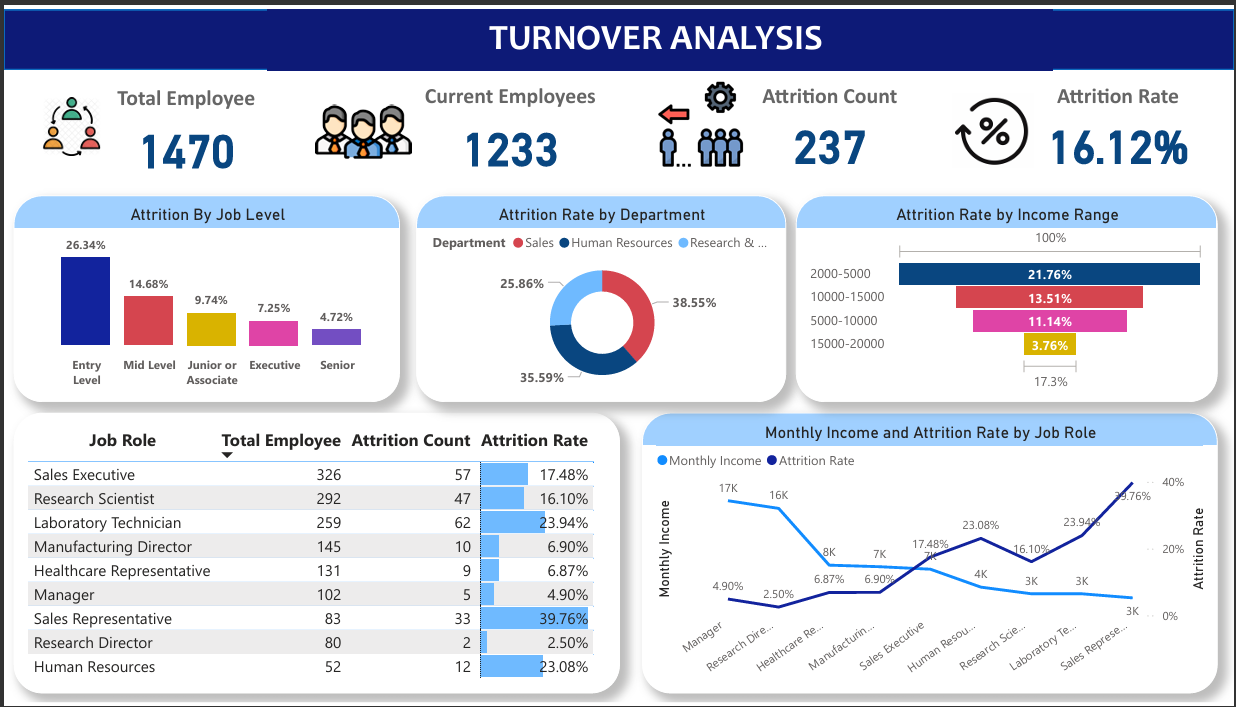

This screenshot's page, from the dashboard's own definition file:
{"tool":"powerbi","page":{"name":"page 1","canvas":[1280,720],"ordinal":0},"visuals":[{"type":"shape","box":[0,0,1279.9,62.3],"z":0},{"type":"columnChart","title":"Attrition By Job Level ","fields":{"Y":["Table.Attrition"],"Category":["HR-Employee-Attrition.JobLevel"],"Series":["HR-Employee-Attrition.JobLevel"]},"box":[19.8,205.8,368.6,170.9],"z":1000},{"type":"textbox","box":[273.8,0,816.6,63.6],"z":2000},{"type":"card","title":"Attrition Count","fields":{"Values":["Table.Attrition"]},"box":[760.3,81.9,190.7,96.6],"z":3000},{"type":"card","title":"Current Employees","fields":{"Values":["Table.currently in company"]},"box":[412,85.6,229.8,101.5],"z":4000},{"type":"card","title":"Attrition Rate","fields":{"Values":["Table.attrition rate"]},"box":[1056.2,81.9,206.6,96.6],"z":5000},{"type":"image","box":[981.6,70.9,94.1,122.2],"z":6000},{"type":"image","box":[663.8,74.6,139.4,103.9],"z":7000},{"type":"image","box":[319,35.4,110,201.7],"z":8000},{"type":"image","box":[35.4,67.2,70.9,129.6],"z":9000},{"type":"barChart","title":"Attrition By Job Satisfaction","fields":{"Category":["HR-Employee-Attrition.JobSatisfaction"],"Y":["Table.Attrition"],"Series":["HR-Employee-Attrition.JobSatisfaction"]},"box":[516.3,393,267.4,326.7],"z":10000},{"type":"tableEx","fields":{"Values":["HR-Employee-Attrition.JobRole","Table.Attrition","Table.attrition rate"]},"box":[19.8,393,474.4,316.3],"z":11000},{"type":"card","title":"Total Employee","fields":{"Values":["Table.total employee"]},"box":[106.3,85.6,167.5,101.5],"z":12000},{"type":"lineChart","fields":{"Y2":["Table.attrition rate"],"Category":["HR-Employee-Attrition.JobRole"],"Y":["Avg(HR-Employee-Attrition.MonthlyIncome)"]},"box":[803.5,214,459.3,466.3],"z":13000},{"type":"donutChart","title":"Attrition Rate by Department","fields":{"Category":["HR-Employee-Attrition.Department"],"Y":["Table.attrition rate"]},"box":[398.8,205.8,384.9,170.9],"z":14000}]}

Visuals, with their boxes in screenshot pixels (x1, y1, x2, y2), scaled from the page's 1280x720 canvas onto the 1236x707 screenshot:
shape: BBox(0, 0, 1235, 61)
"Attrition By Job Level " columnChart: BBox(19, 202, 375, 370)
textbox: BBox(264, 0, 1053, 62)
"Attrition Count" card: BBox(734, 80, 918, 175)
"Current Employees" card: BBox(398, 84, 620, 184)
"Attrition Rate" card: BBox(1020, 80, 1219, 175)
image: BBox(948, 70, 1039, 190)
image: BBox(641, 73, 776, 175)
image: BBox(308, 35, 414, 233)
image: BBox(34, 66, 103, 193)
"Attrition By Job Satisfaction" barChart: BBox(499, 386, 757, 706)
tableEx - HR-Employee-Attrition.JobRole x Table.Attrition: BBox(19, 386, 477, 696)
"Total Employee" card: BBox(103, 84, 264, 184)
lineChart - Table.attrition rate x HR-Employee-Attrition.JobRole: BBox(776, 210, 1219, 668)
"Attrition Rate by Department" donutChart: BBox(385, 202, 757, 370)
